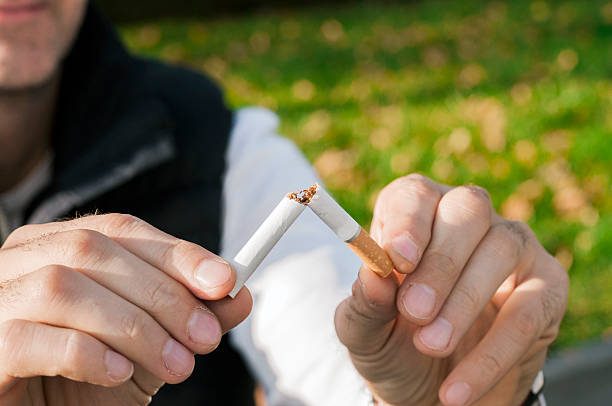cigarette: (221, 190, 309, 301), (301, 183, 395, 279)
